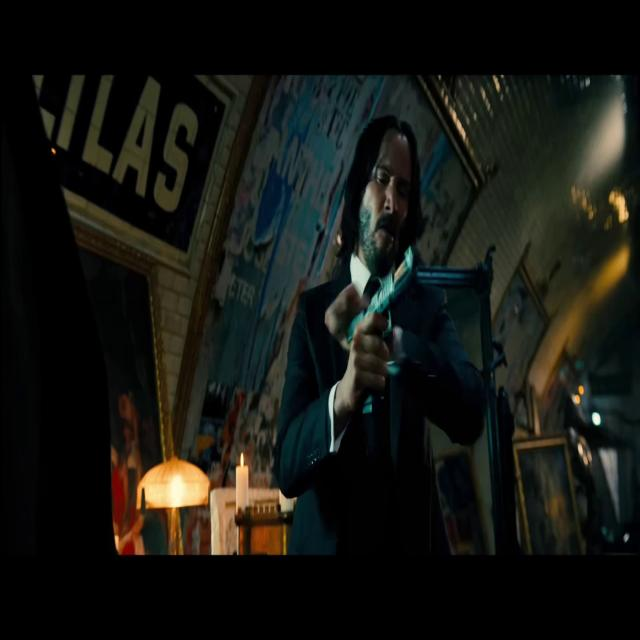weapons: (338, 234, 423, 422)
